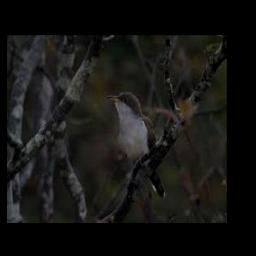Cuckoo: (106, 92, 168, 200)
